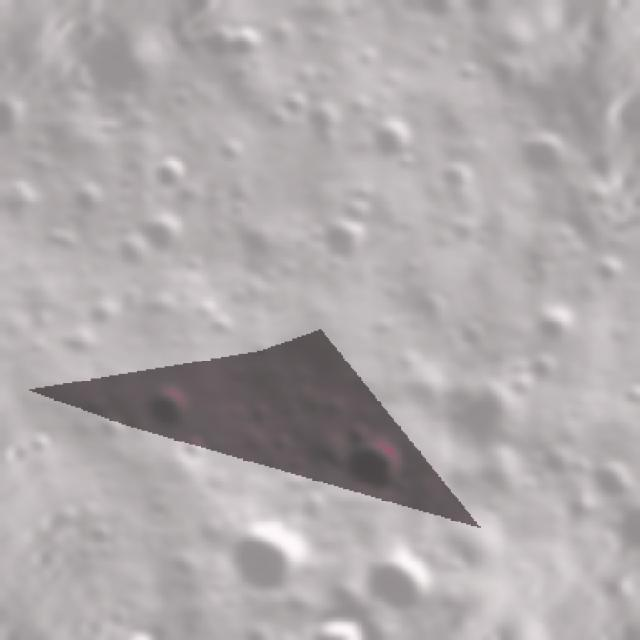crater: (418, 358, 544, 474), (209, 498, 323, 611), (323, 421, 426, 516), (346, 538, 443, 627), (430, 489, 519, 585), (496, 112, 578, 194), (306, 202, 383, 278), (352, 103, 426, 174), (230, 208, 302, 278), (571, 444, 640, 513), (132, 373, 200, 438), (126, 201, 194, 264), (292, 90, 356, 156), (415, 146, 483, 208), (141, 138, 204, 202), (179, 13, 243, 76), (279, 600, 373, 640), (86, 80, 148, 138), (34, 209, 92, 271), (520, 290, 582, 348), (406, 278, 466, 336), (439, 305, 501, 360), (66, 170, 119, 228), (580, 240, 635, 294), (476, 46, 526, 102), (219, 18, 272, 70), (167, 424, 222, 474), (591, 489, 640, 545), (91, 398, 140, 450), (557, 480, 606, 532), (407, 0, 470, 32), (20, 420, 63, 463), (110, 614, 179, 640), (62, 70, 106, 108), (454, 0, 511, 29), (218, 186, 257, 228), (606, 372, 640, 418), (337, 415, 374, 456), (511, 258, 547, 296), (560, 392, 594, 432)
